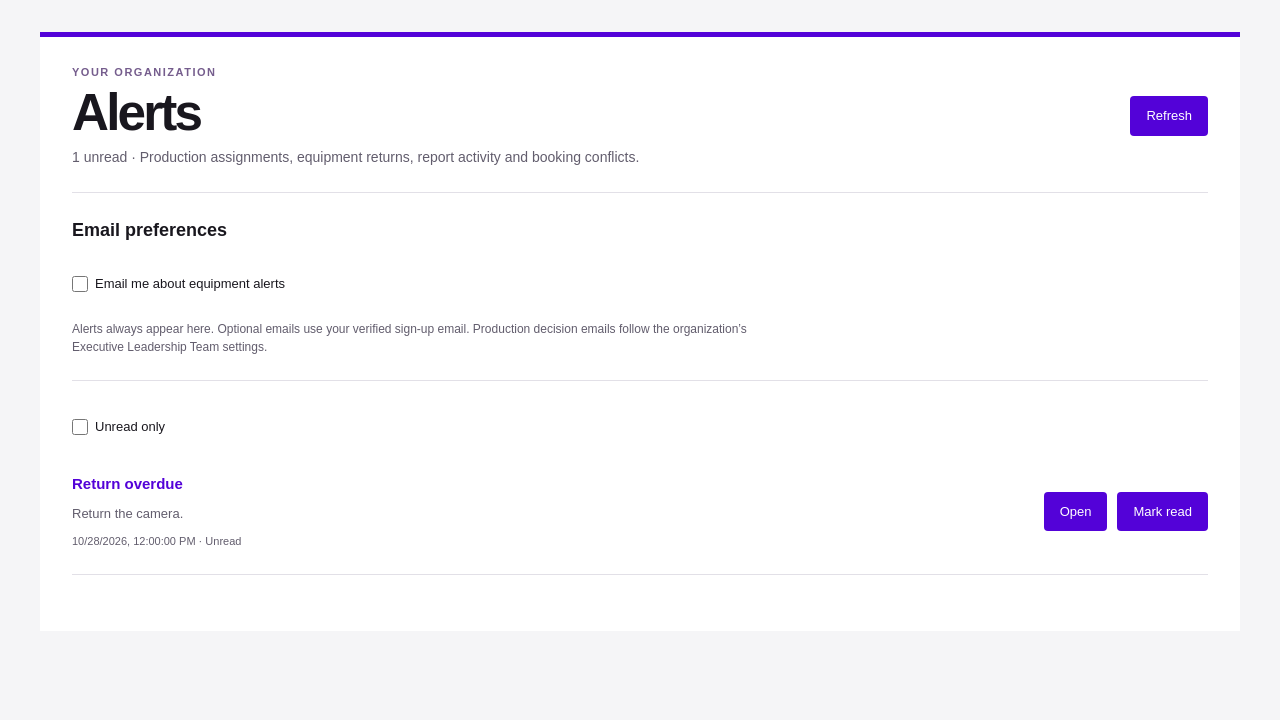
Test: Personal alert workspace › removes read alerts from the unread view
Click the button "Mark read".
click(1163, 511)  # box [1118,492,1208,531]
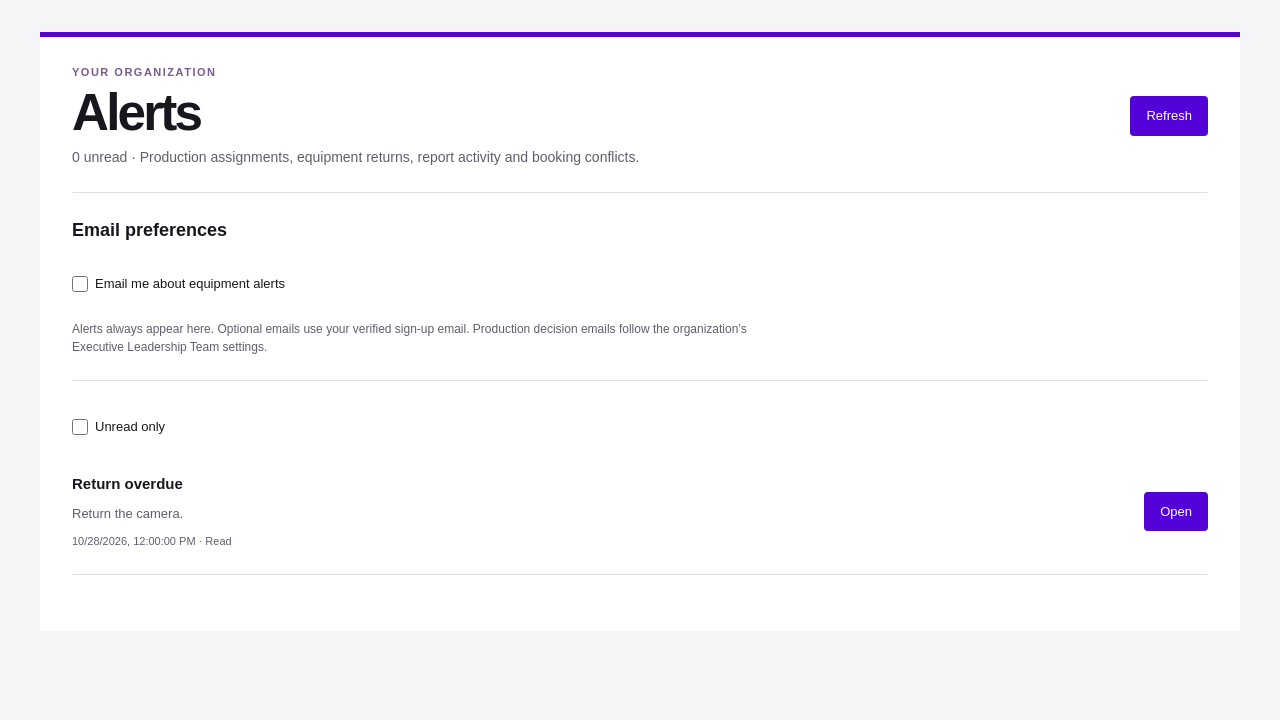
Click the checkbox labelled "Unread only".
click(80, 427)  # box [72,419,88,435]
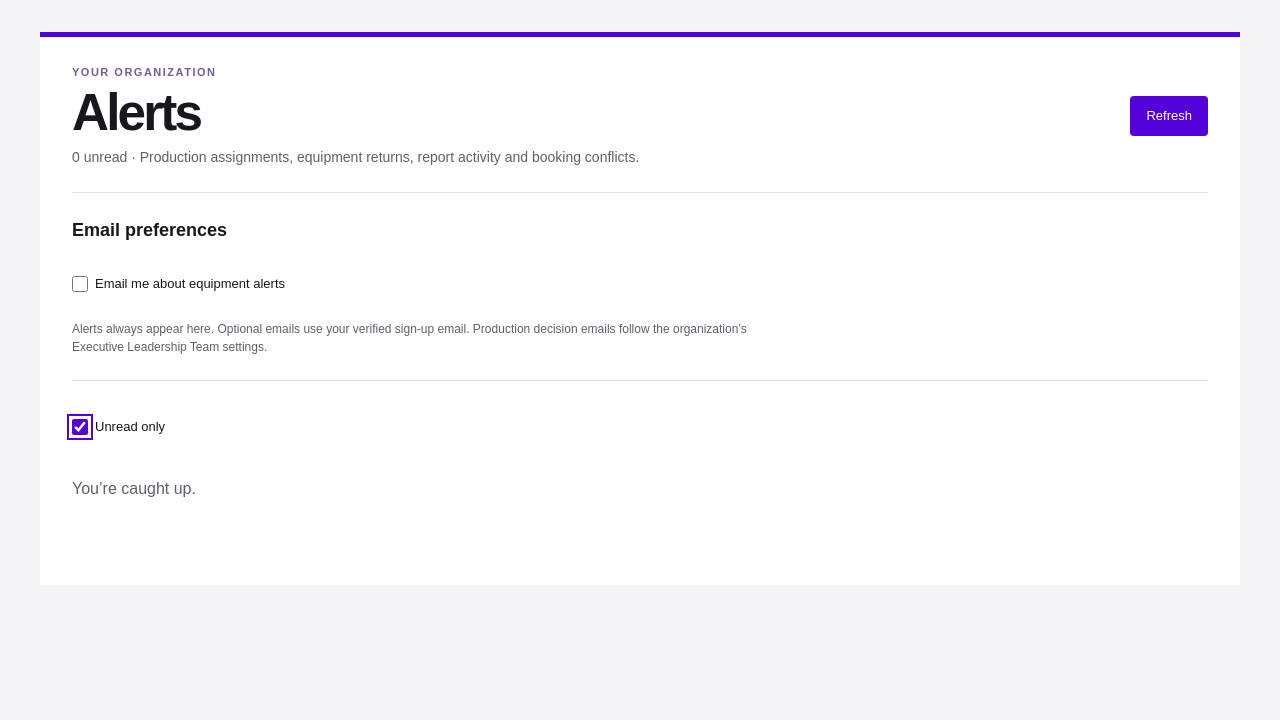
Expected: the heading "Return overdue" is gone
Expected: the text "You’re caught up." is shown, [72,480,196,497]
